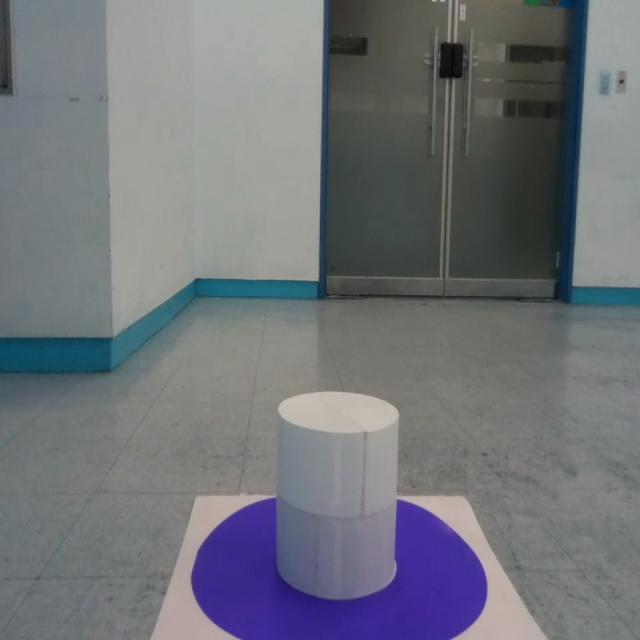cylinder: (274, 392, 400, 600)
